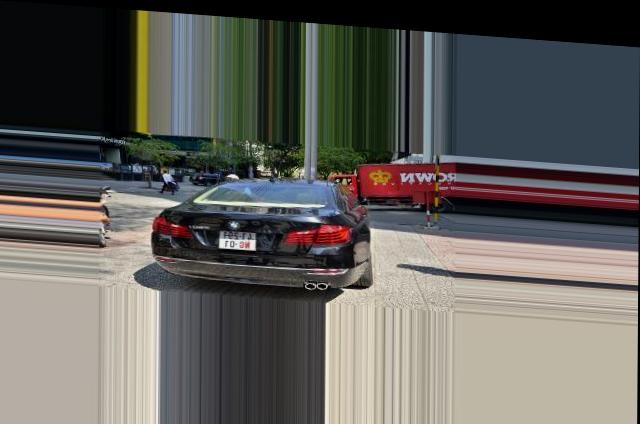License_Plate: (216, 229, 257, 254)
